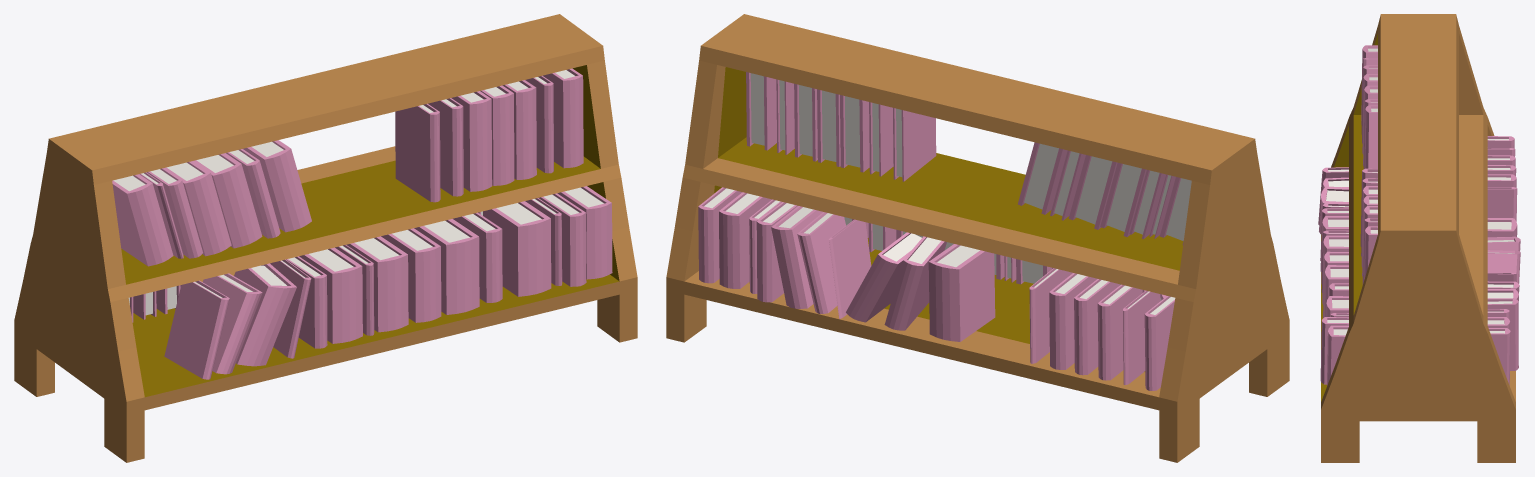
Rendered from bookshelf_4.fbx.
3 views of the same model, side by side, from view 1: azimuth 30°, elevation 25°; view 2: azimuth 150°, elevation 25°; view 3: azimuth 270°, elevation 25° (orthographic). The views are drawn at different scales.
Parts seen in each view (by area): view 1: mesh_Bookshelf3.001, Book1.183, Book1.197, Book1.201, Book1.189, Book1.178, Book1.199, Book1.180, Book1.182, Book1.184, Book1.195, Book1.193 (+18 smaller); view 2: mesh_Bookshelf3.001, Book1.220, Book1.207, Book1.221, Book1.218, Book1.219, Book1.222, Book1.217, Book1.201, Book1.215, Book1.213, Book1.214 (+20 smaller); view 3: mesh_Bookshelf3.001, Book1.212, Book1.216, Book1.195, Book1.222, Book1.187, Book1.208, Book1.188, Book1.178, Book1.220, Book1.182, Book1.199 (+28 smaller).
Part boxes in pixels (bbox=[...]): mesh_Bookshelf3.001: bbox=[14, 14, 637, 462]; Book1.183: bbox=[483, 201, 551, 296]; Book1.197: bbox=[164, 280, 229, 379]; Book1.201: bbox=[395, 103, 440, 202]; Book1.189: bbox=[112, 174, 173, 266]; Book1.178: bbox=[414, 219, 479, 314]; Book1.199: bbox=[234, 263, 296, 366]; Book1.180: bbox=[299, 247, 362, 343]; Book1.182: bbox=[346, 236, 408, 332]; Book1.184: bbox=[381, 228, 441, 322]; Book1.195: bbox=[243, 140, 311, 232]; Book1.193: bbox=[194, 153, 262, 248]; mesh_Bookshelf3.001: bbox=[666, 14, 1289, 462]; Book1.220: bbox=[928, 244, 995, 341]; Book1.207: bbox=[719, 192, 771, 288]; Book1.221: bbox=[884, 236, 946, 330]; Book1.218: bbox=[797, 212, 845, 313]; Book1.219: bbox=[771, 206, 822, 308]; Book1.222: bbox=[846, 232, 921, 322]; Book1.217: bbox=[829, 219, 871, 318]; Book1.201: bbox=[893, 108, 936, 181]; Book1.215: bbox=[1049, 273, 1097, 369]; Book1.213: bbox=[1097, 284, 1142, 380]; Book1.214: bbox=[1074, 279, 1119, 375]; mesh_Bookshelf3.001: bbox=[1321, 14, 1515, 462]; Book1.212: bbox=[1487, 187, 1517, 221]; Book1.216: bbox=[1487, 298, 1518, 370]; Book1.195: bbox=[1364, 105, 1377, 168]; Book1.222: bbox=[1487, 249, 1520, 283]; Book1.187: bbox=[1327, 325, 1348, 385]; Book1.208: bbox=[1488, 328, 1510, 384]; Book1.188: bbox=[1320, 317, 1348, 384]; Book1.178: bbox=[1324, 265, 1348, 317]; Book1.220: bbox=[1487, 218, 1517, 237]; Book1.182: bbox=[1322, 235, 1348, 304]; Book1.199: bbox=[1321, 186, 1348, 225].
Size of the model in its own units: 200 by 100 by 78.99.
